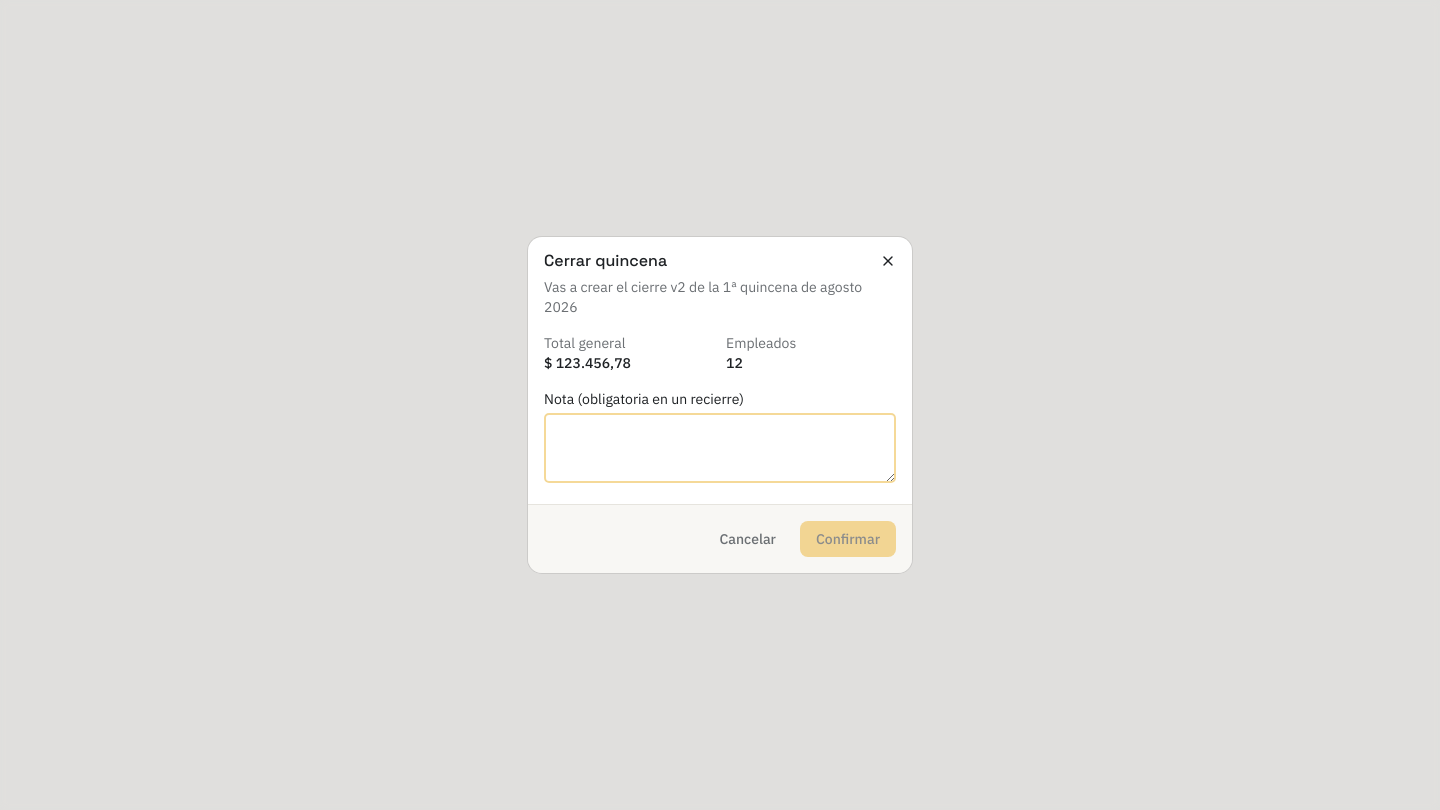
Test: CerrarQuincenaDialog › el botón Confirmar está deshabilitado en un recierre (v2) sin nota, y se habilita al escribirla
The image size is (1440, 810).
Expected: the button "Confirmar" is disabled, 800,521 -> 896,557
Type "corrección de horas extra" into the text box labelled "Nota (obligatoria en un recierre)". click: [720, 448]
box: 544,413 -> 896,483
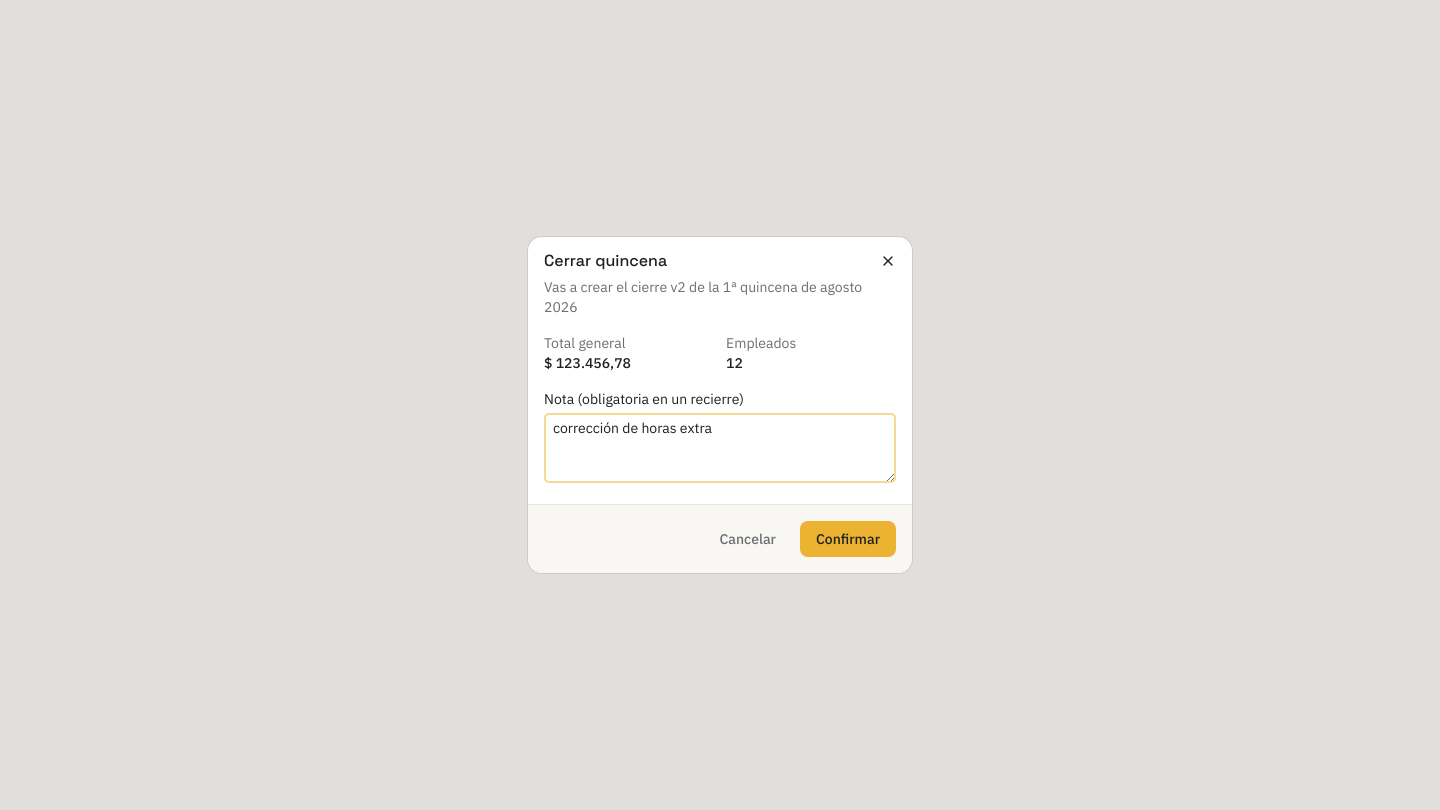
Now the button "Confirmar" is enabled, box 800,521 -> 896,557
